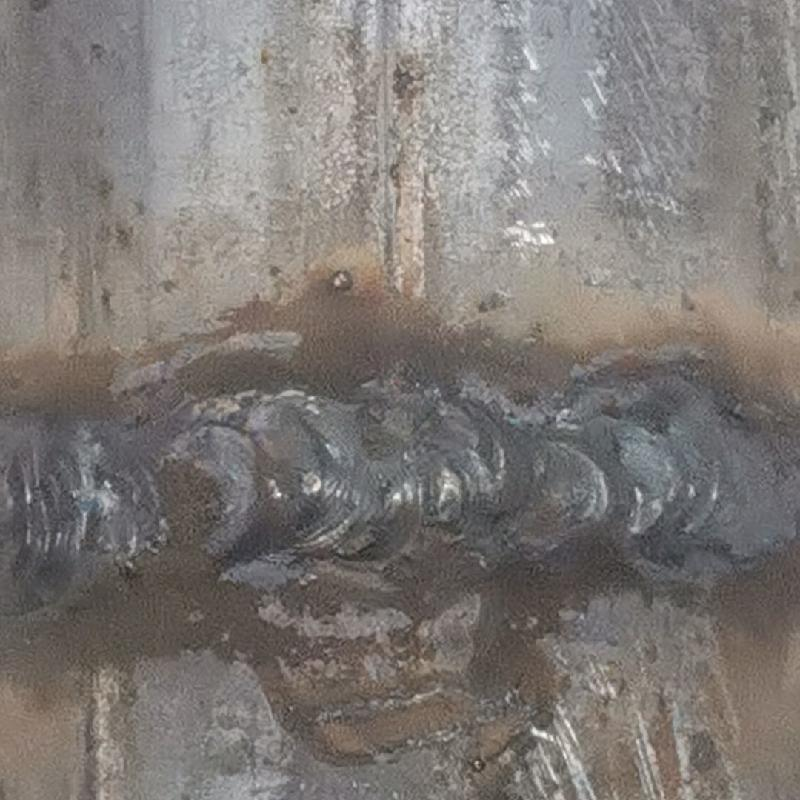good: (1, 376, 799, 575)
